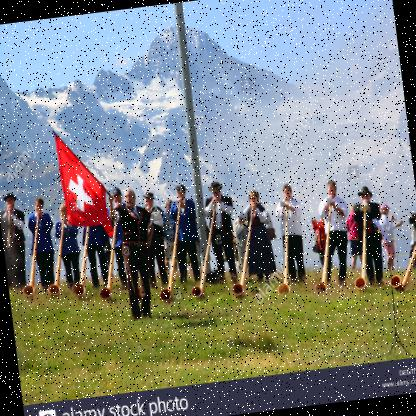ch: (52, 126, 114, 244)
